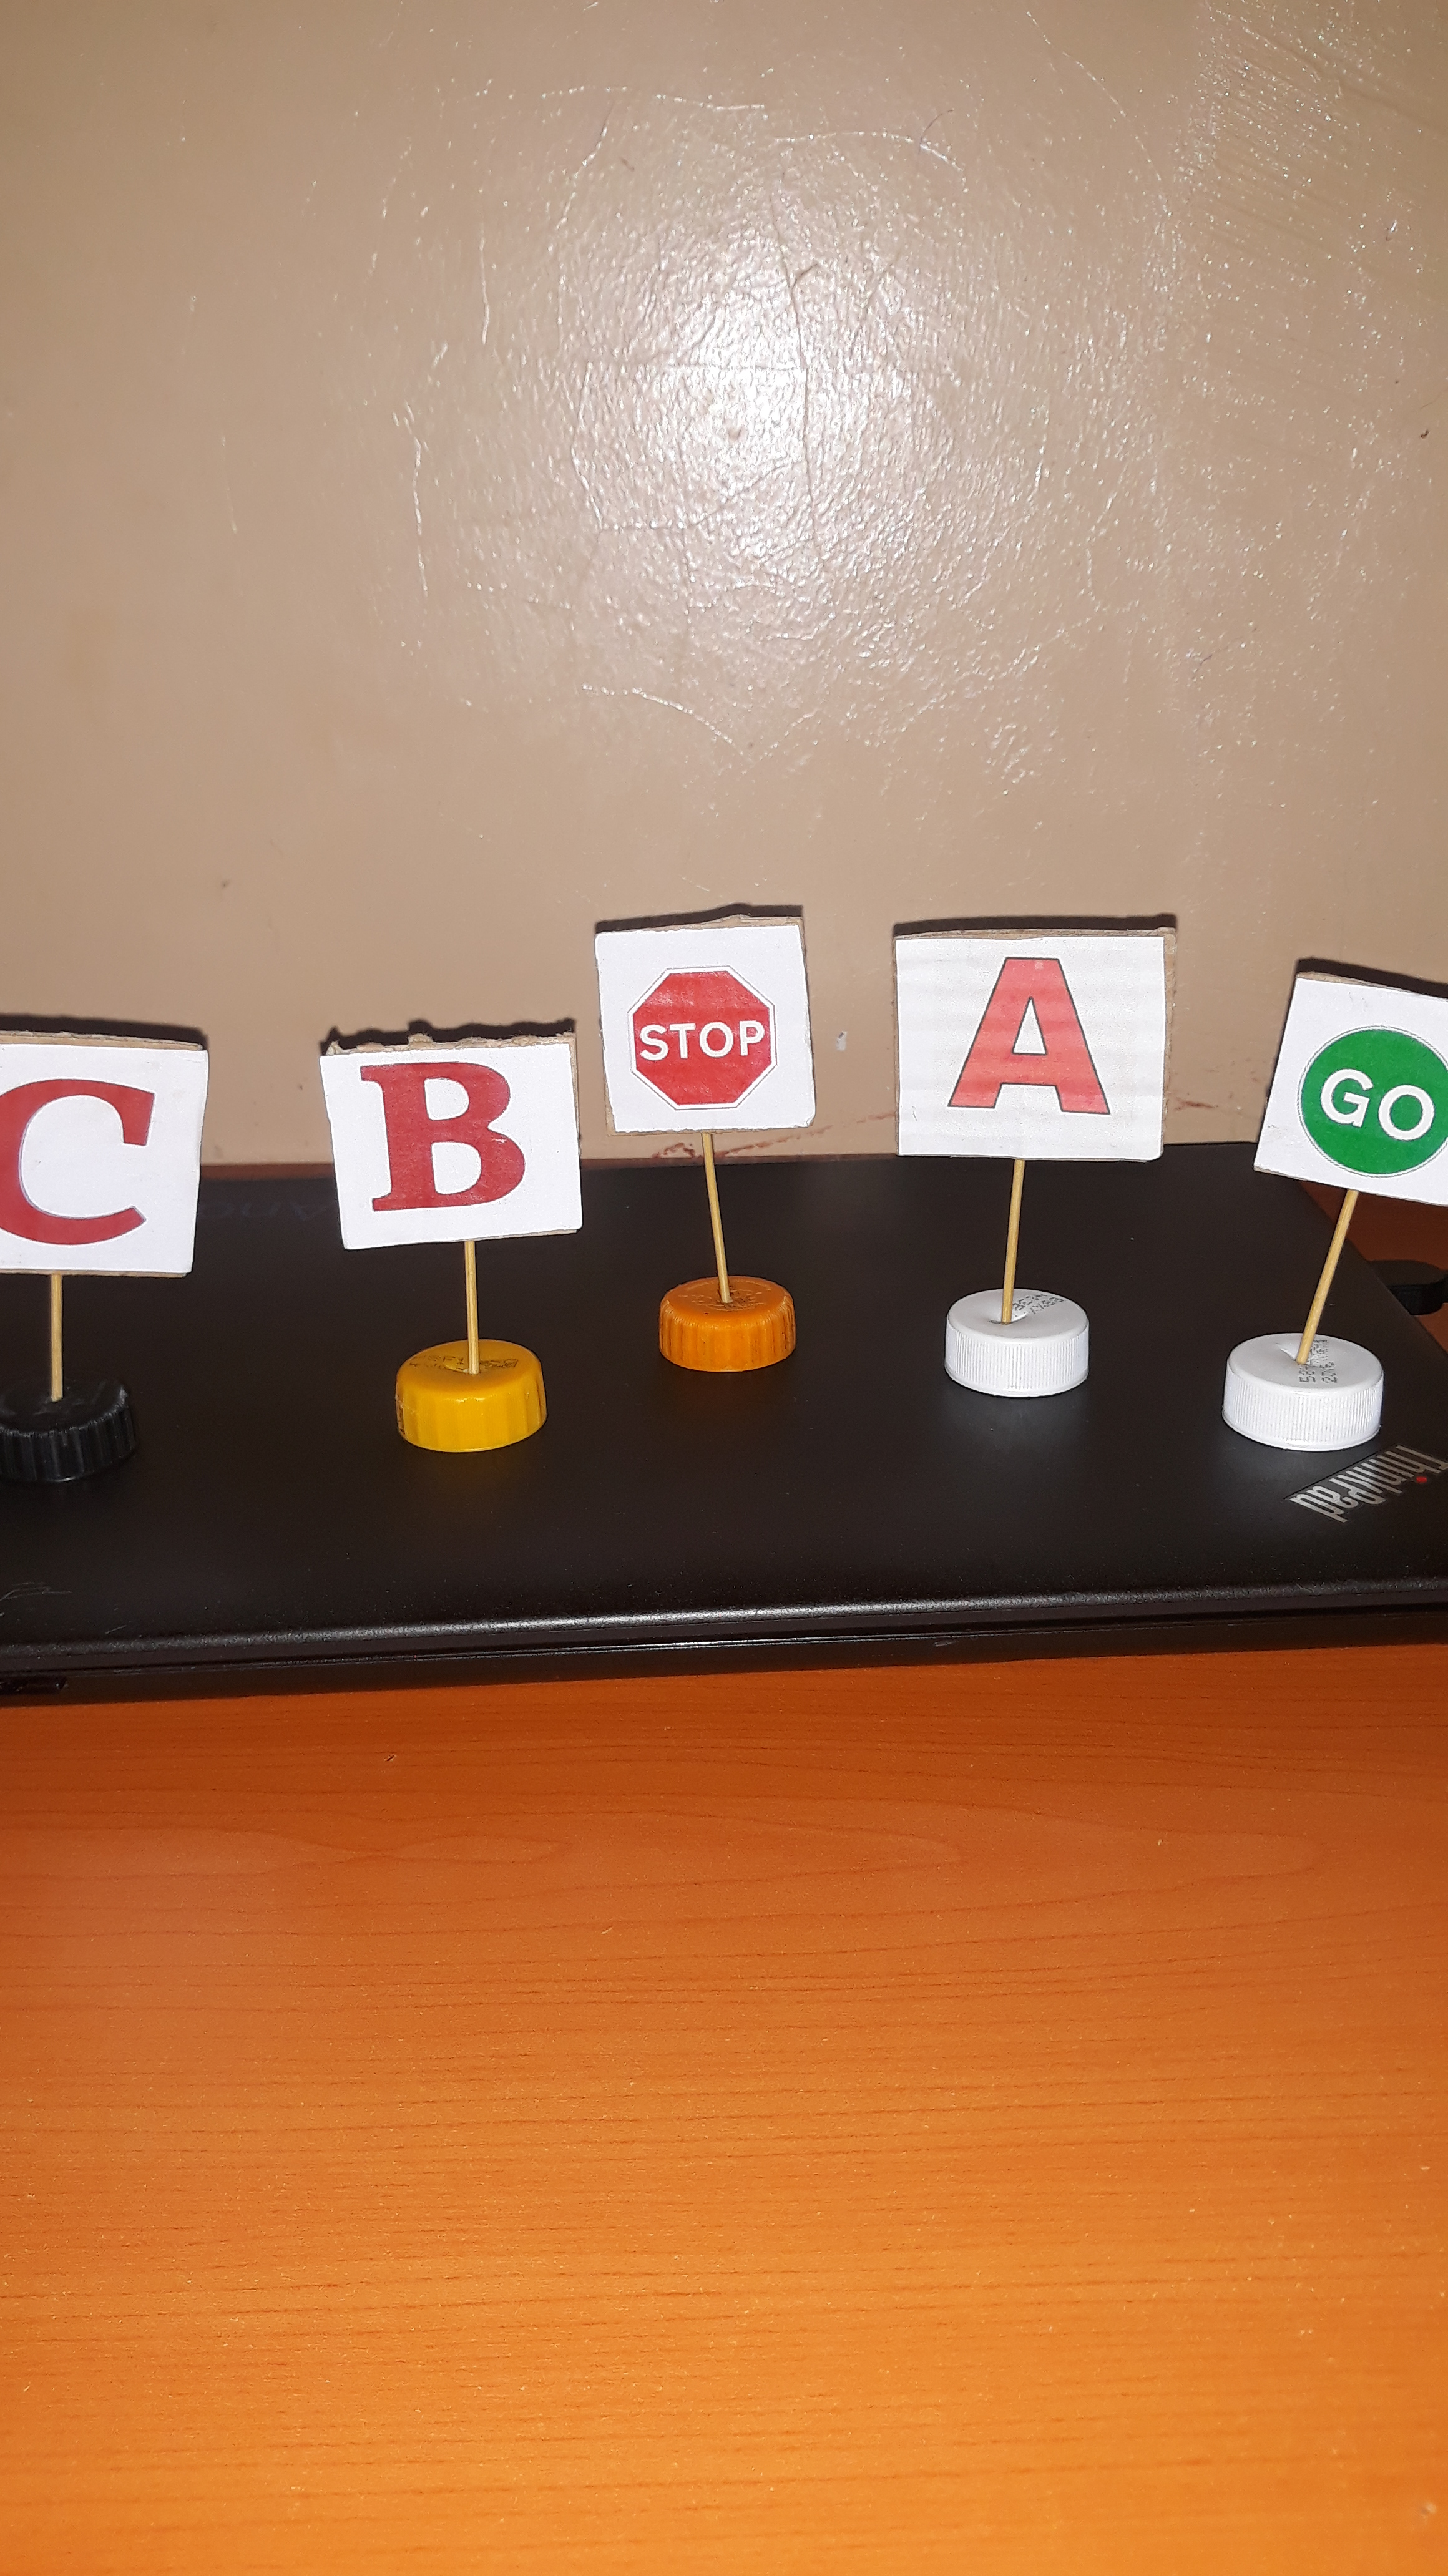go: (1294, 1016, 1448, 1198)
stop: (607, 952, 802, 1113)
zone A: (922, 941, 1138, 1155)
zone B: (354, 1058, 545, 1217)
zone C: (2, 1035, 177, 1276)
